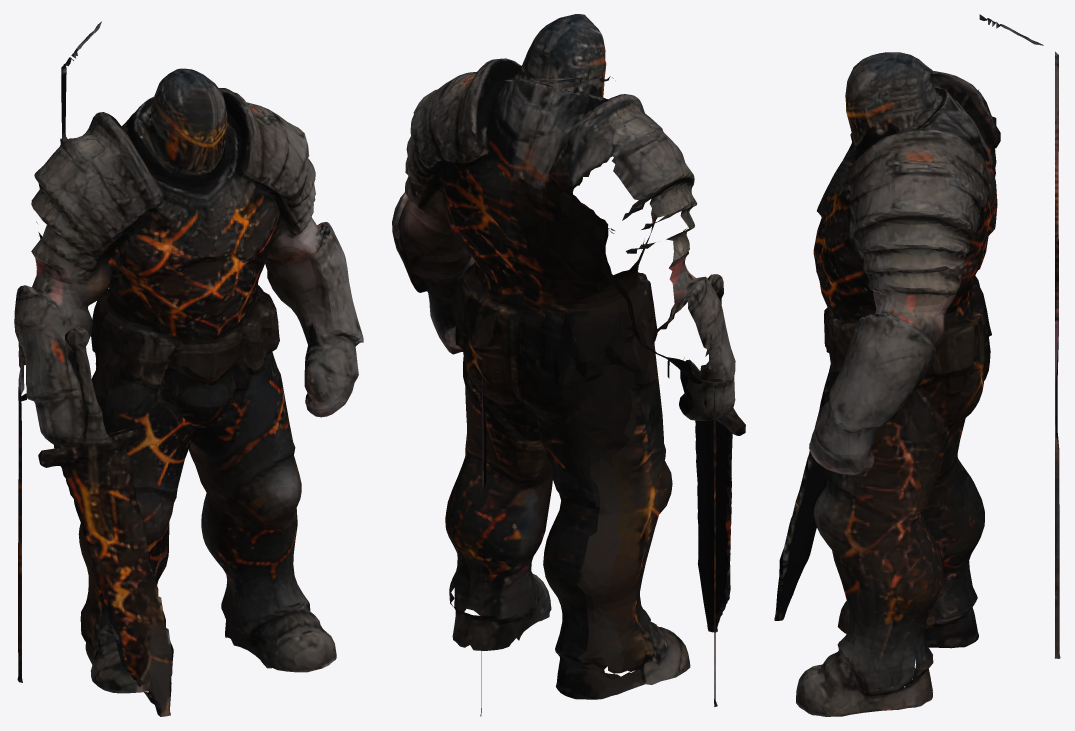
File: clean_01.glb
The picture shows the model from 3 angles, left to right: view 1: azimuth 30°, elevation 25°; view 2: azimuth 150°, elevation 25°; view 3: azimuth 270°, elevation 25°; orthographic projection. The views are drawn at different scales.
Parts seen in each view (by area): view 1: textured_mesh.obj; view 2: textured_mesh.obj; view 3: textured_mesh.obj.
Boxes of the visible parts, x1,y1,x2,y2 form: textured_mesh.obj: (14,21,363,716); textured_mesh.obj: (392,14,745,716); textured_mesh.obj: (774,14,1060,716).
Size of the model in its own units: 0.6983 by 1.26 by 0.5372.
1 material, 1 textured.
